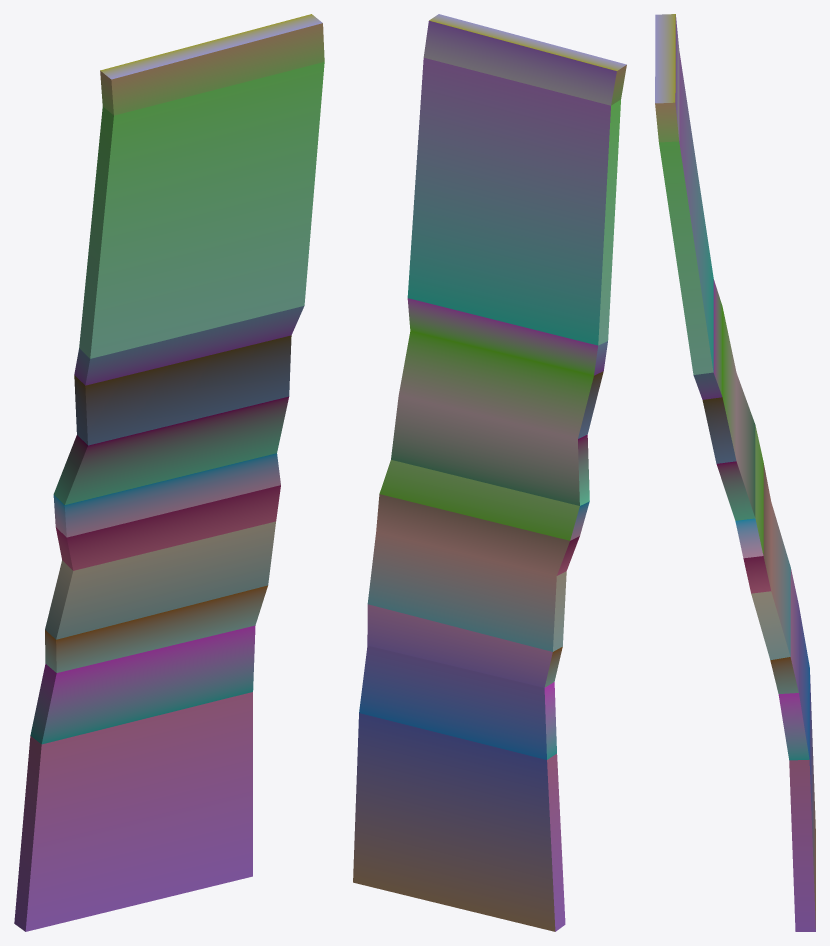
The model's file is Dock_RampStraightA_lod1.glb.
3 views of the same model, side by side, from view 1: azimuth 30°, elevation 25°; view 2: azimuth 150°, elevation 25°; view 3: azimuth 270°, elevation 25° (orthographic). The views are drawn at different scales.
Parts seen in each view (by area): view 1: MeshNode_0; view 2: MeshNode_0; view 3: MeshNode_0.
Part boxes in pixels (bbox=[...]): MeshNode_0: bbox=[14, 14, 324, 931]; MeshNode_0: bbox=[353, 14, 626, 931]; MeshNode_0: bbox=[655, 14, 815, 931].
Bounding box in the file's own units: 16.71 × 63.75 × 11.26.
